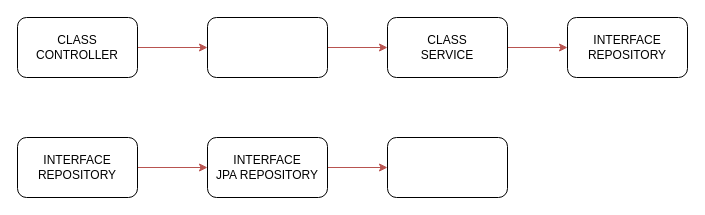
The diagram is 705 pixels wide and 215 high, and some of its shapes have lost their labels. Here are the shapes that lost their labels. From the top down, the centre of each, then its label:
(267,47): CLASS USECASE
(447,167): JPA REPOSITORY IMPL
